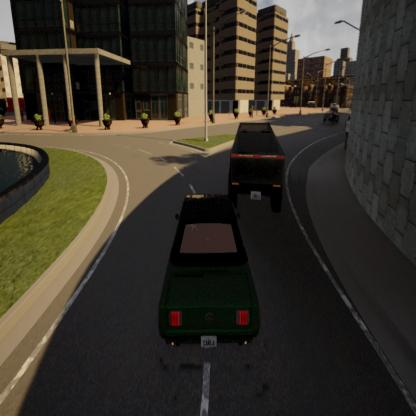Cars: (159, 193, 262, 352), (227, 122, 283, 204), (323, 109, 340, 127)
Pedestrian: (344, 115, 352, 149), (68, 108, 76, 130)
